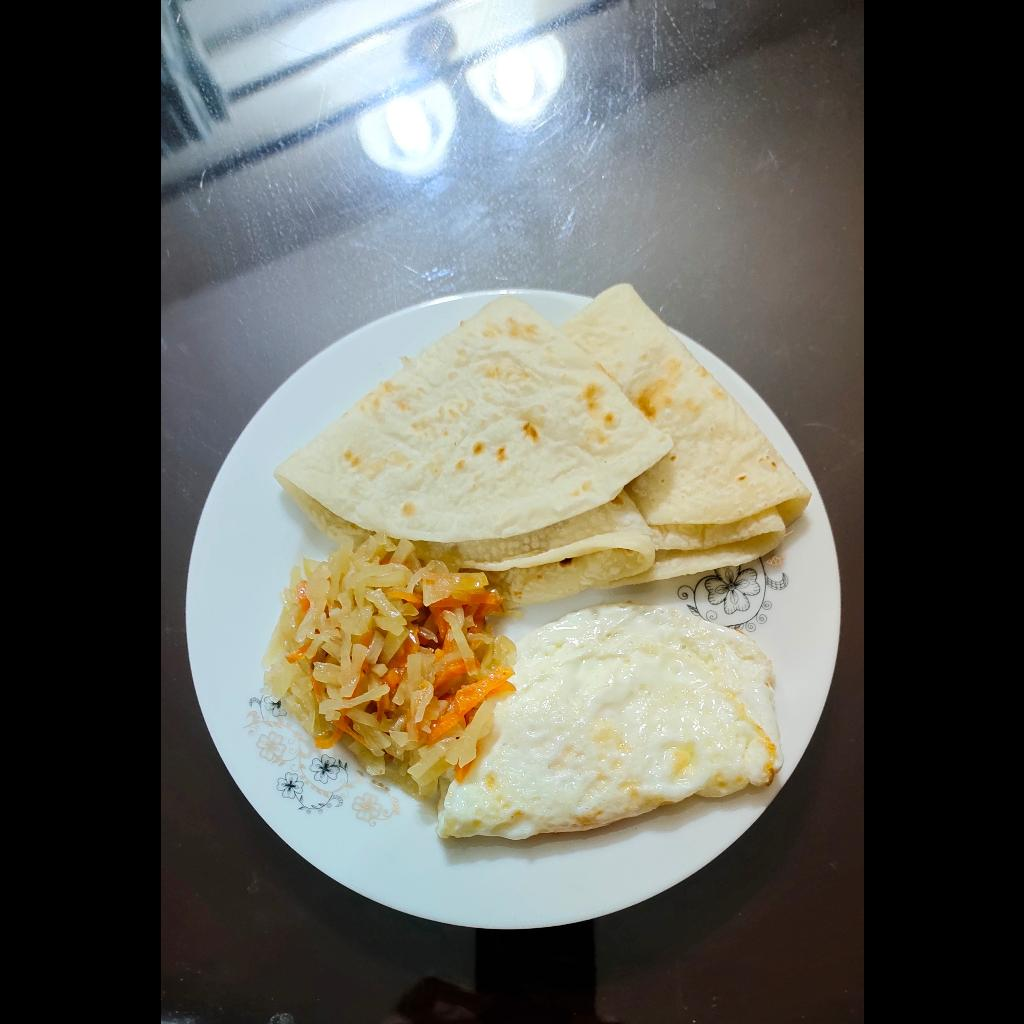egg-poached: (440, 596, 782, 843)
ruti: (271, 278, 814, 606)
vegetable: (265, 544, 520, 802)
